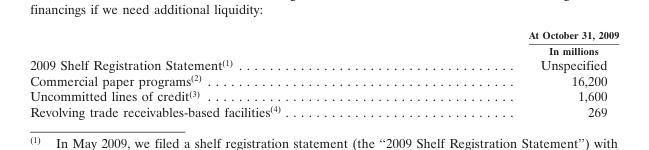table: (29, 28, 618, 119)
table column: (29, 28, 403, 119), (403, 28, 618, 119)
table column header: (29, 28, 618, 72)
table row: (29, 28, 618, 72), (29, 72, 618, 88), (29, 103, 618, 119), (29, 88, 618, 103)
